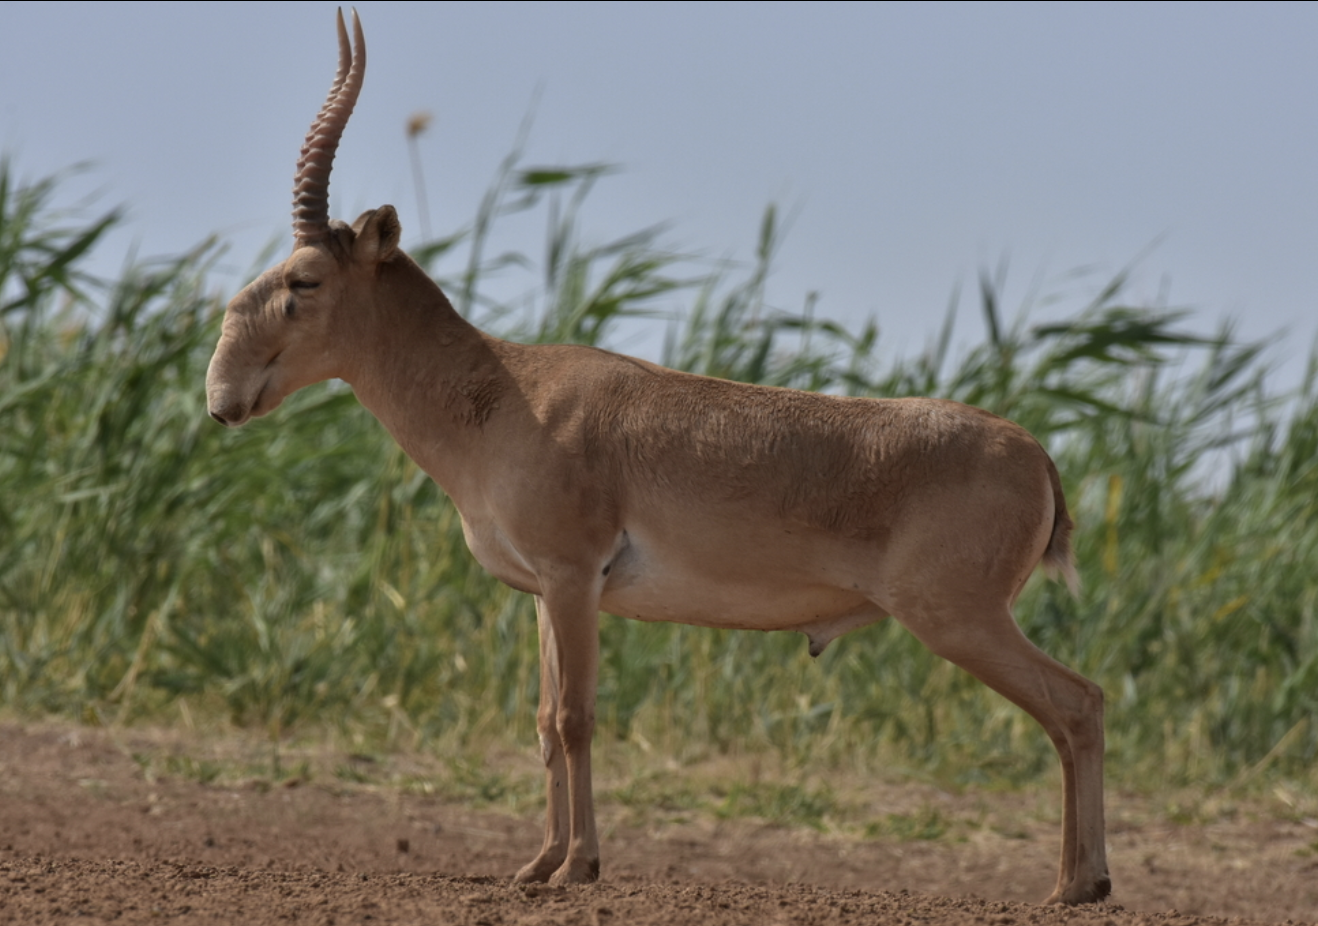saiga: (194, 6, 1106, 926)
